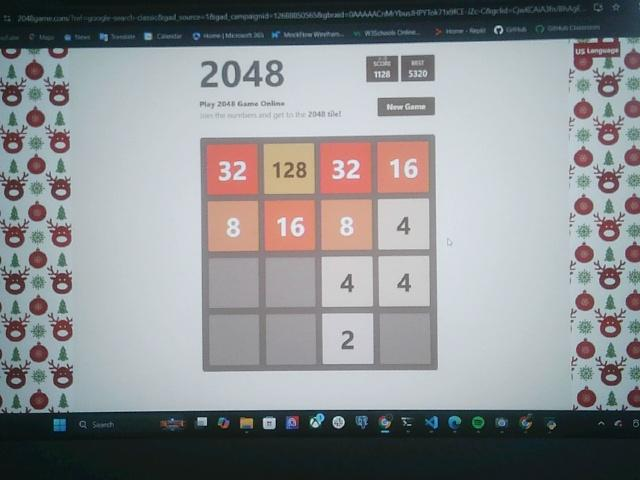board: (201, 137, 435, 372)
tile: (321, 200, 373, 251), (378, 199, 430, 250), (322, 257, 374, 308), (323, 313, 375, 364), (378, 142, 429, 193), (379, 257, 430, 308), (207, 143, 257, 194), (321, 143, 372, 193), (265, 143, 314, 194), (208, 202, 259, 251), (265, 202, 315, 251)
